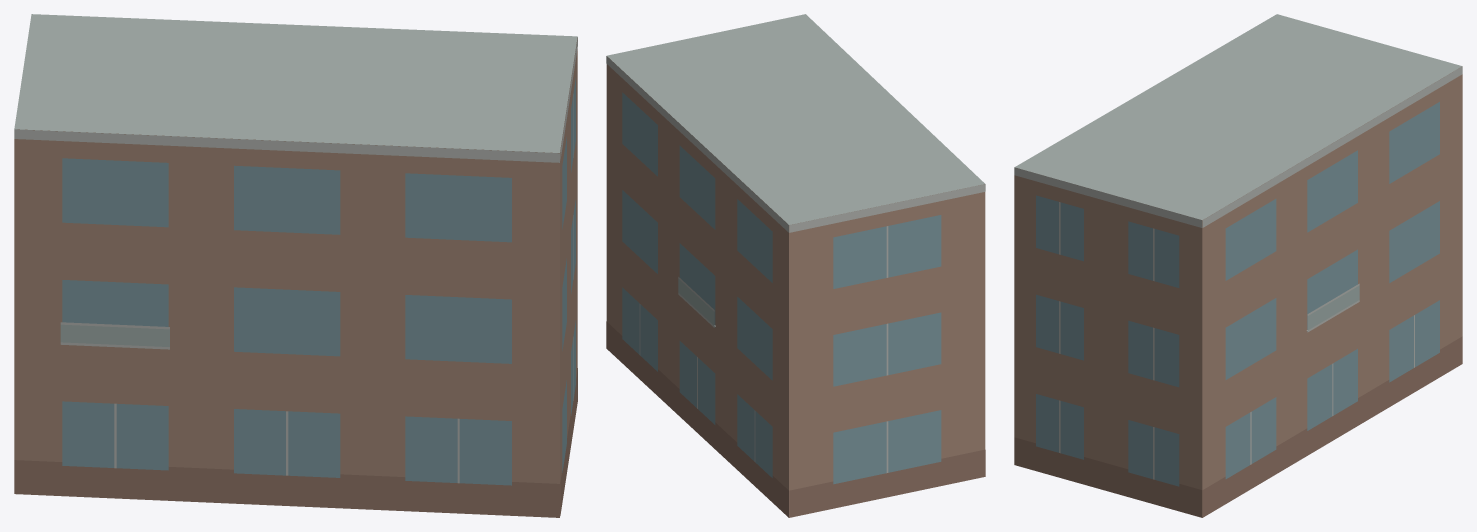
The model's file is survey-upis-32500274.glb.
3 renders of one model, left to right at view 1: azimuth 30°, elevation 25°; view 2: azimuth 150°, elevation 25°; view 3: azimuth 270°, elevation 25°, orthographic. The views are drawn at different scales.
Visible parts, largest first — view 1: survey-upis-32500274.tmp; view 2: survey-upis-32500274.tmp; view 3: survey-upis-32500274.tmp.
Part boxes in pixels (<box>): survey-upis-32500274.tmp: <box>14,14,577,517</box>; survey-upis-32500274.tmp: <box>606,14,985,517</box>; survey-upis-32500274.tmp: <box>1014,14,1462,517</box>.
Bounding box in the file's own units: 13.53 × 9.1 × 12.43.
